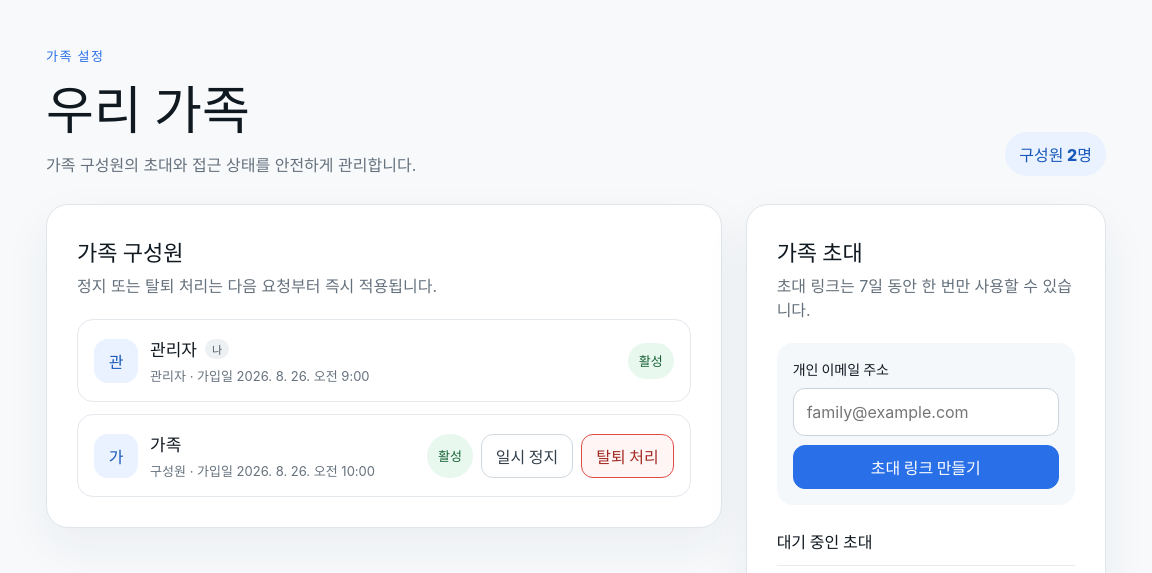
MemberManagementPage › normalizes and submits an invitation email once
Step 1. Type "  FAMILY@EXAMPLE.COM  " into the field labelled "개인 이메일 주소" → (926, 412), box [793,388,1059,436]
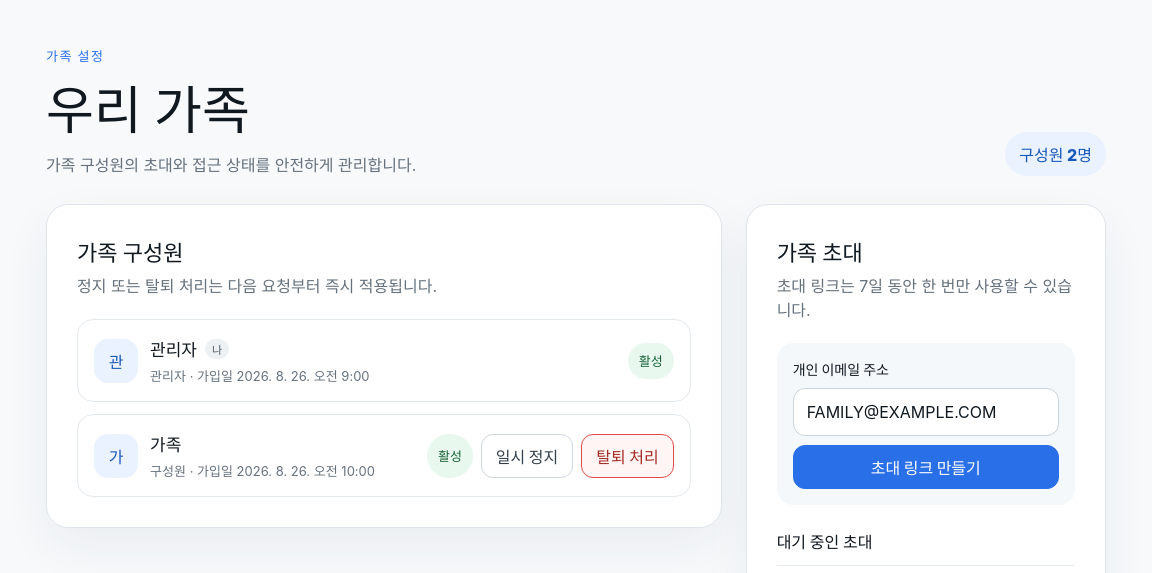
Step 2. Click the button "초대 링크 만들기" → (926, 467), box [793,445,1059,489]
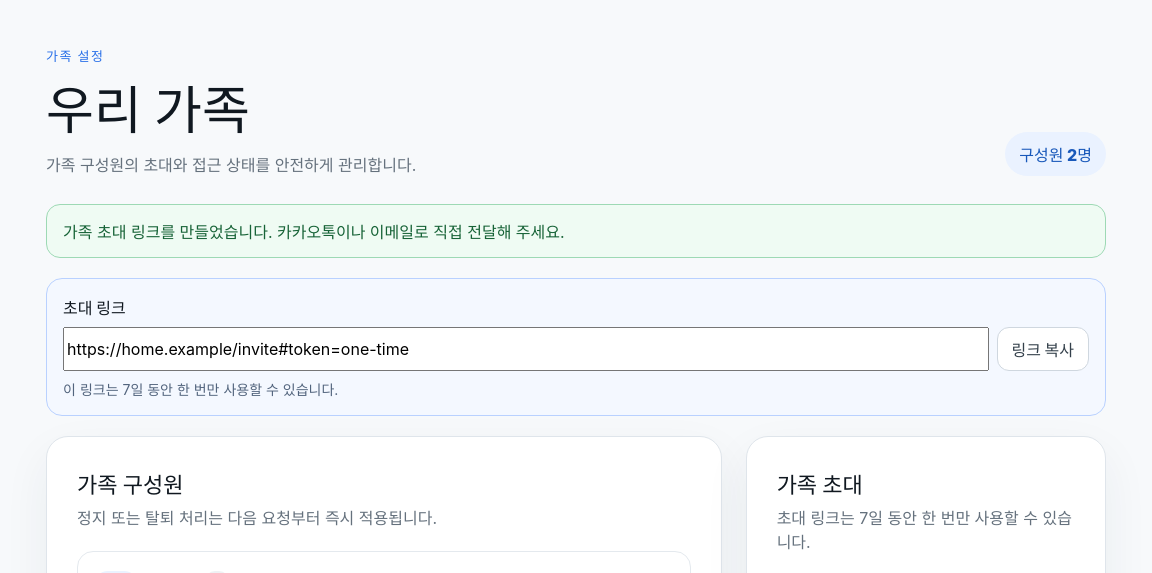
Expected: the message shows "가족 초대 링크를 만들었습니다.", [63,222,565,242]
Expected: the field labelled "초대 링크" holds "https://home.example/invite#token=one-time", [63,327,989,371]
